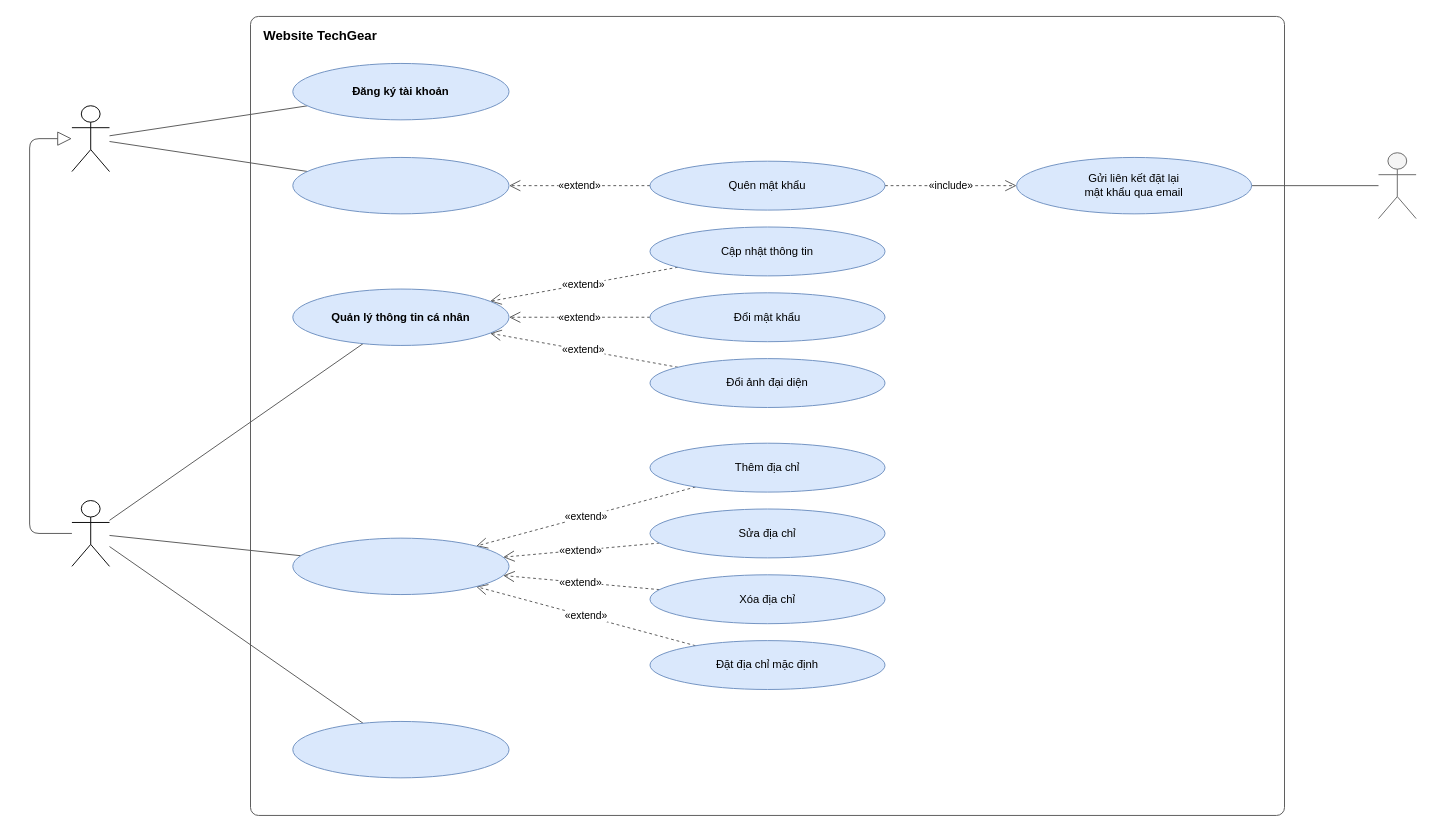
Image size: 1448x832. Some labels were removed from this diagram. Each missing label, with the box of its shape:
Dịch vụ Email: (1378, 152, 1416, 219)
Khách hàng: (71, 500, 110, 566)
Khách vãng lai: (71, 105, 110, 172)
Quản lý sổ địa chỉ: (292, 537, 509, 595)
Đăng nhập: (292, 157, 509, 214)
Đăng xuất: (292, 721, 509, 778)
